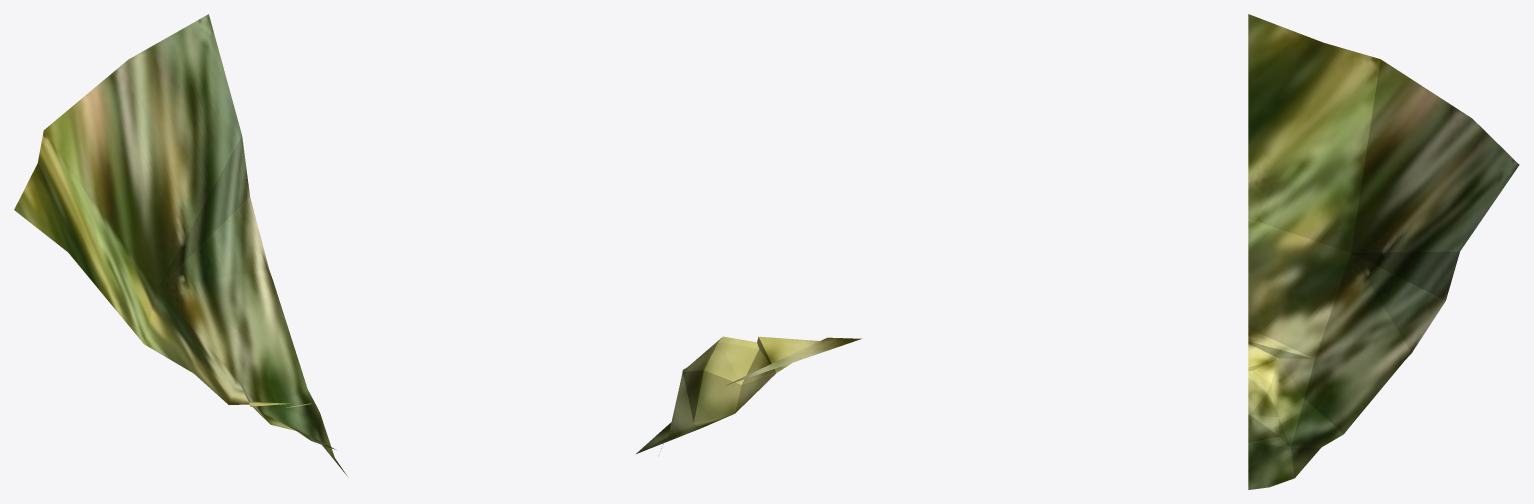
The picture shows the model from 3 angles, left to right: view 1: azimuth 30°, elevation 25°; view 2: azimuth 150°, elevation 25°; view 3: azimuth 270°, elevation 25°; orthographic projection. The views are drawn at different scales.
Size of the model in its own units: 0.5799 by 0.5826 by 0.4404.
1 material, 1 textured.
